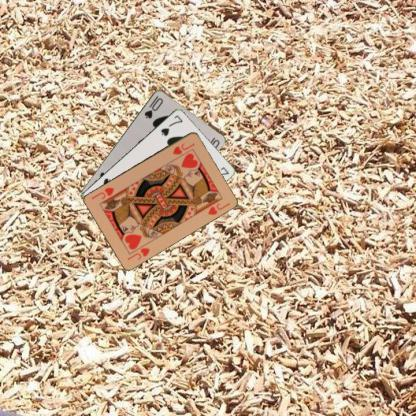10s: (142, 94, 164, 119)
7s: (158, 112, 184, 137)
Jh: (125, 245, 151, 262), (170, 140, 196, 156)
